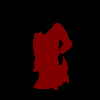vestito: (32, 22, 72, 90)
